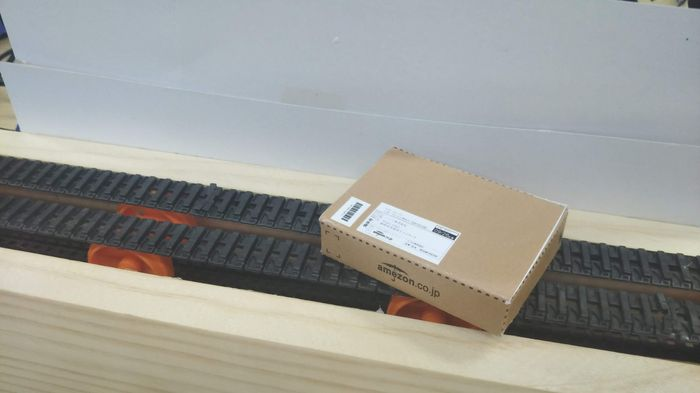box2: (316, 144, 568, 341)
